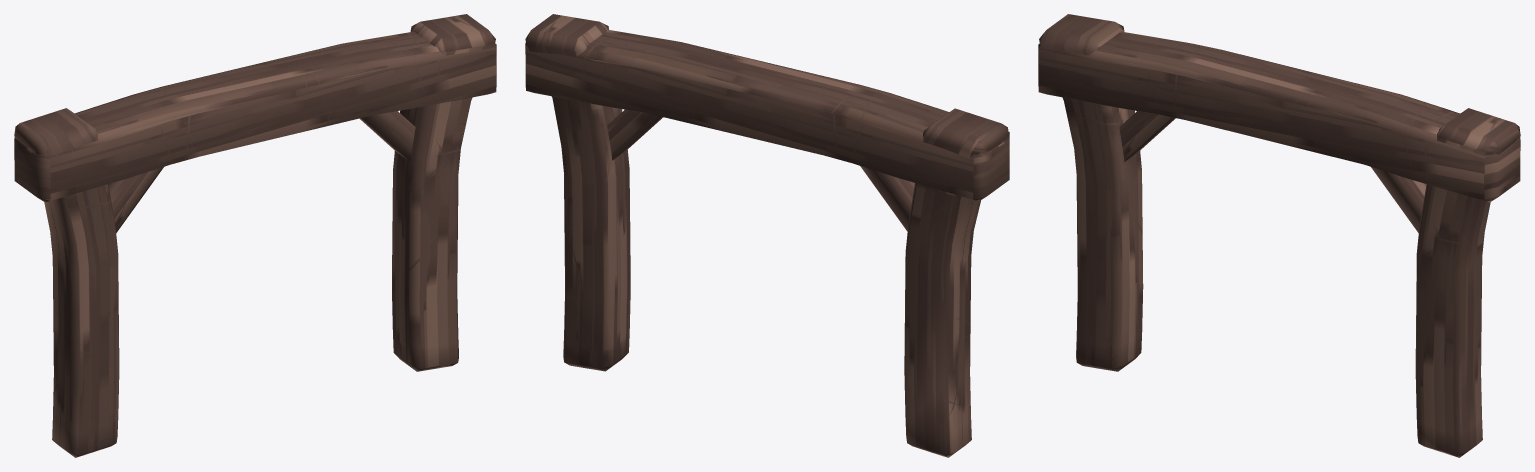
Rendered from SM_wood_entrance.glb.
3 renders of one model, left to right at view 1: azimuth 30°, elevation 25°; view 2: azimuth 150°, elevation 25°; view 3: azimuth 330°, elevation 25°, orthographic.
Visible parts, largest first — view 1: SM_wood_entrance; view 2: SM_wood_entrance; view 3: SM_wood_entrance.
Part boxes in pixels (left/top/right/bottom): SM_wood_entrance: left=14, top=14, right=496, bottom=457; SM_wood_entrance: left=525, top=14, right=1009, bottom=457; SM_wood_entrance: left=1038, top=14, right=1520, bottom=457.
Bounding box in the file's own units: 7.36 × 5.06 × 1.02.
Materials: 1 (1 with a texture image).
